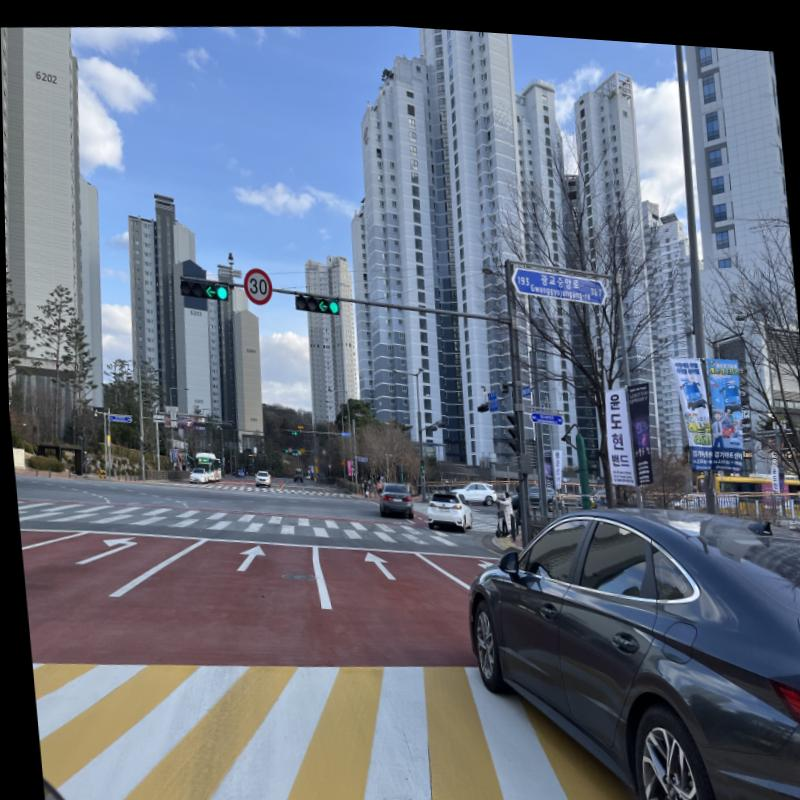green: (214, 281, 226, 297), (327, 295, 338, 309)
left: (315, 293, 327, 308), (203, 282, 215, 296)
